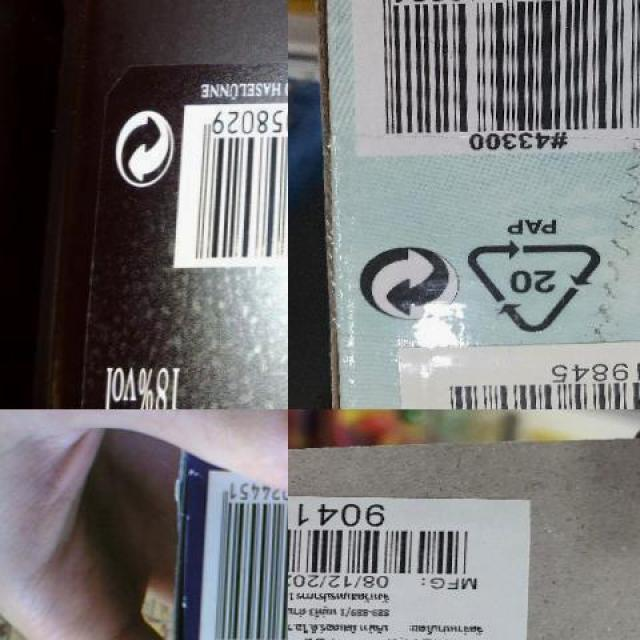Barcode: (349, 0, 639, 149), (176, 99, 288, 268), (288, 504, 489, 581), (203, 473, 288, 640)
